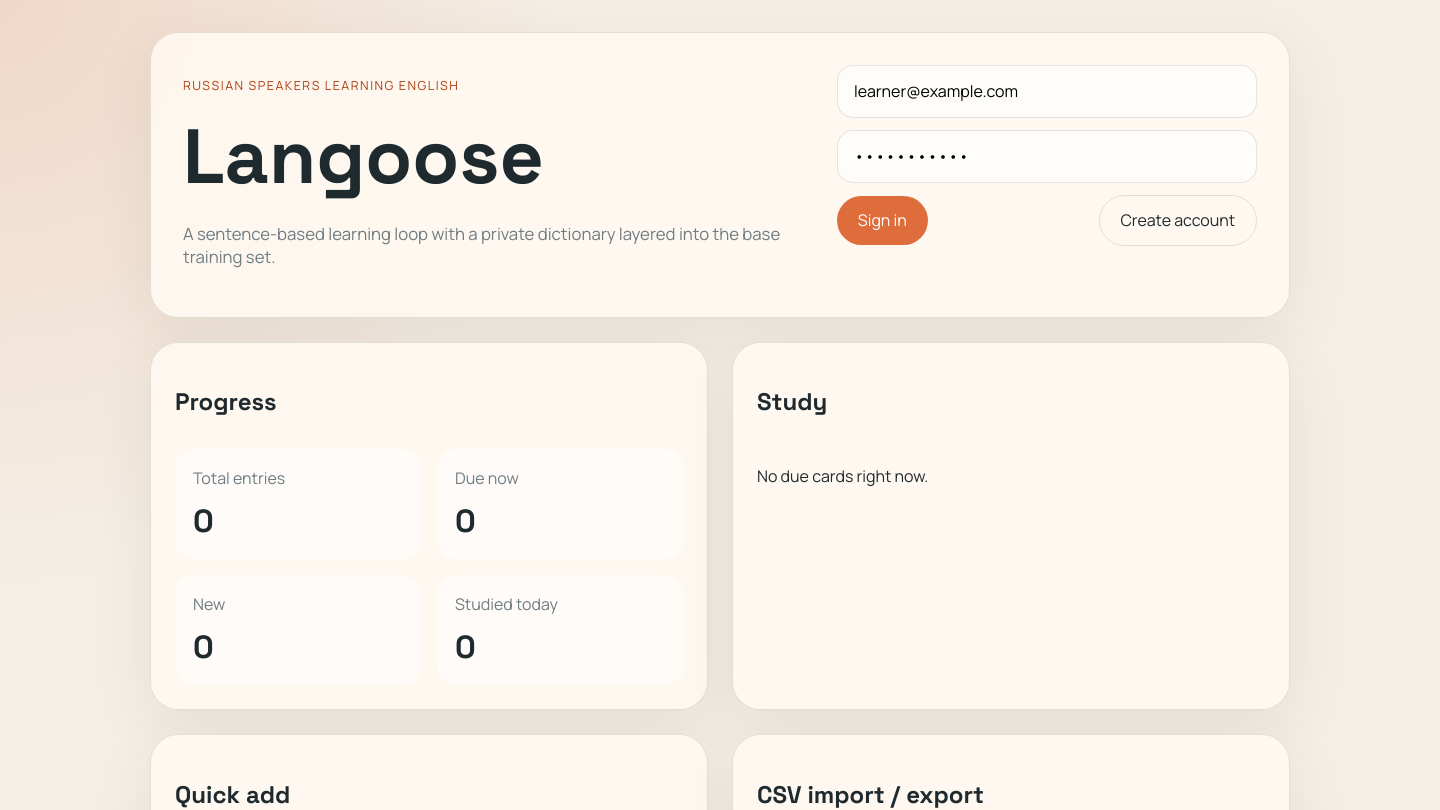
Test: App auth flow › hydrates the authenticated UI after sign up
The width and height of the screenshot is (1440, 810).
Click the button "Create account".
click(1178, 220)  # box [1099,195,1257,246]
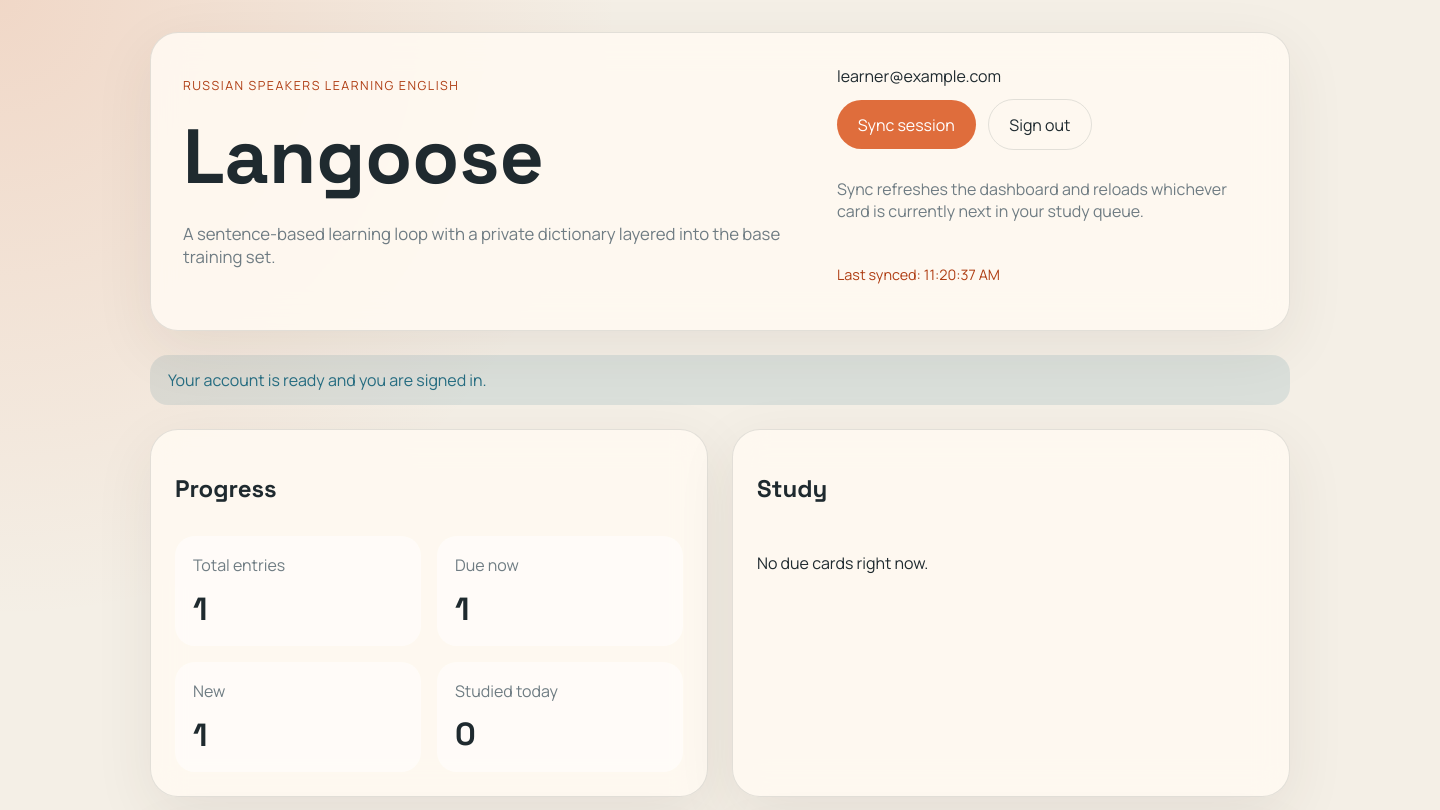
Expected: the text "learner@example.com" is shown, [837,65,1001,87]
Expected: the text "Your account is ready and you are signed in." is shown, [150,355,1290,405]
